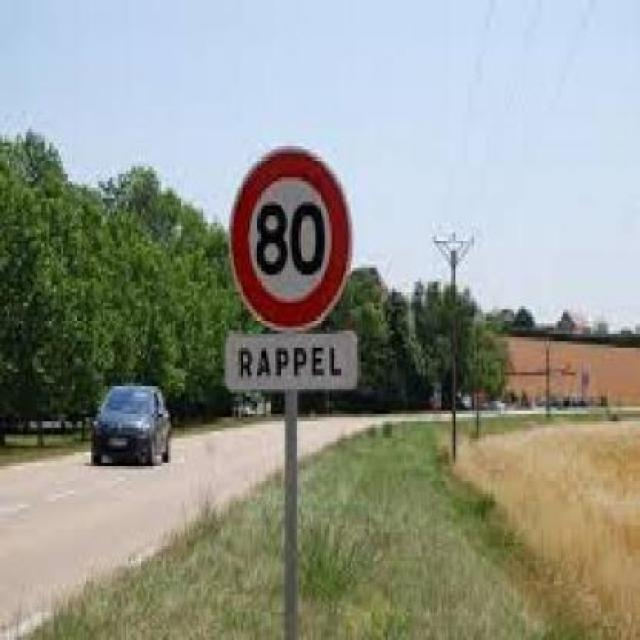forb_speed_over_80: (233, 146, 344, 329)
